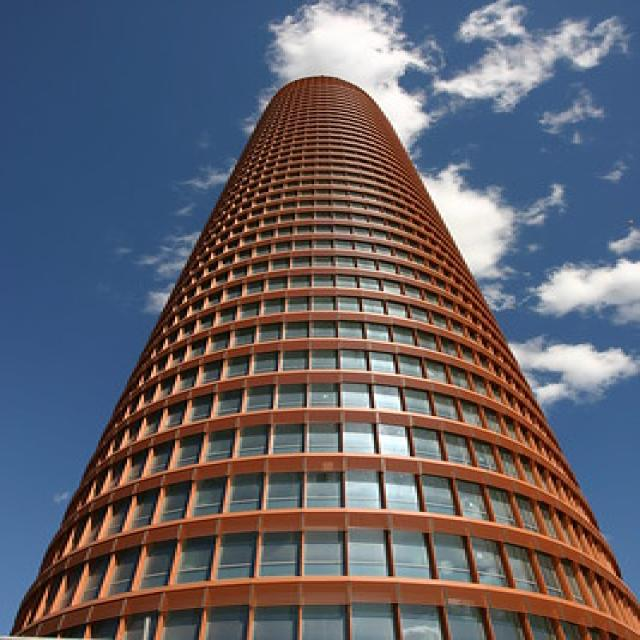building: (9, 70, 640, 639)
